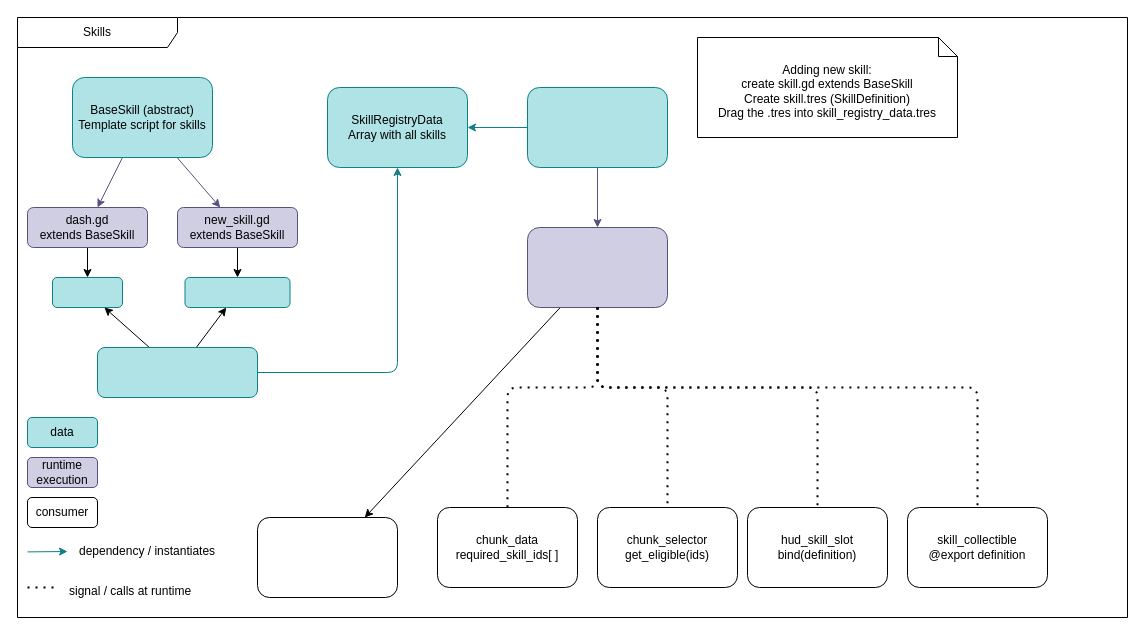
This 1145x635 diagram has some shape labels left out. Each missing label, with the box of its shape:
dash.tres SkillDefinition: (52, 276, 122, 308)
new_skill.tres.tres SkillDefinition: (184, 276, 290, 308)
player_entity startup_skill_ids[ ]: (256, 516, 398, 598)
SkillRegistry (Autoload) Assert skills Skills getter: (526, 86, 668, 168)
skills_definition Base resource for all skills: (96, 346, 258, 398)
SkillsController Manage skills: (526, 226, 668, 308)
